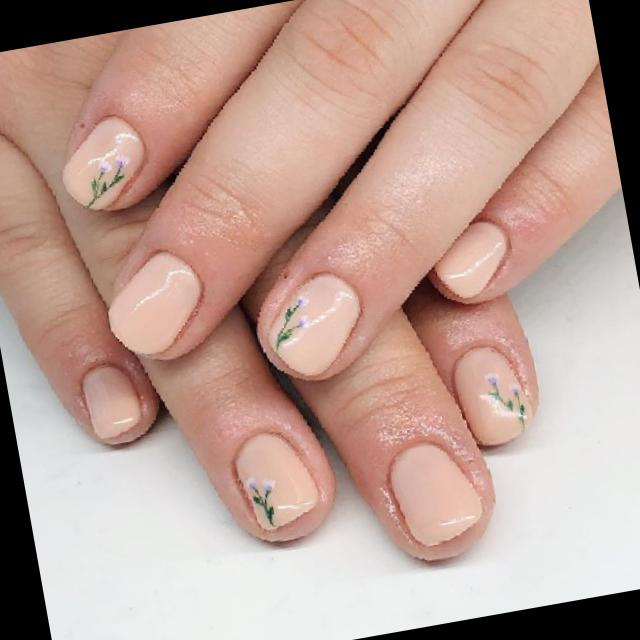Nail: (108, 251, 202, 354), (389, 442, 482, 545), (268, 273, 360, 376), (235, 432, 318, 530), (453, 346, 532, 446), (62, 116, 144, 209), (434, 221, 507, 298), (82, 365, 141, 440)
